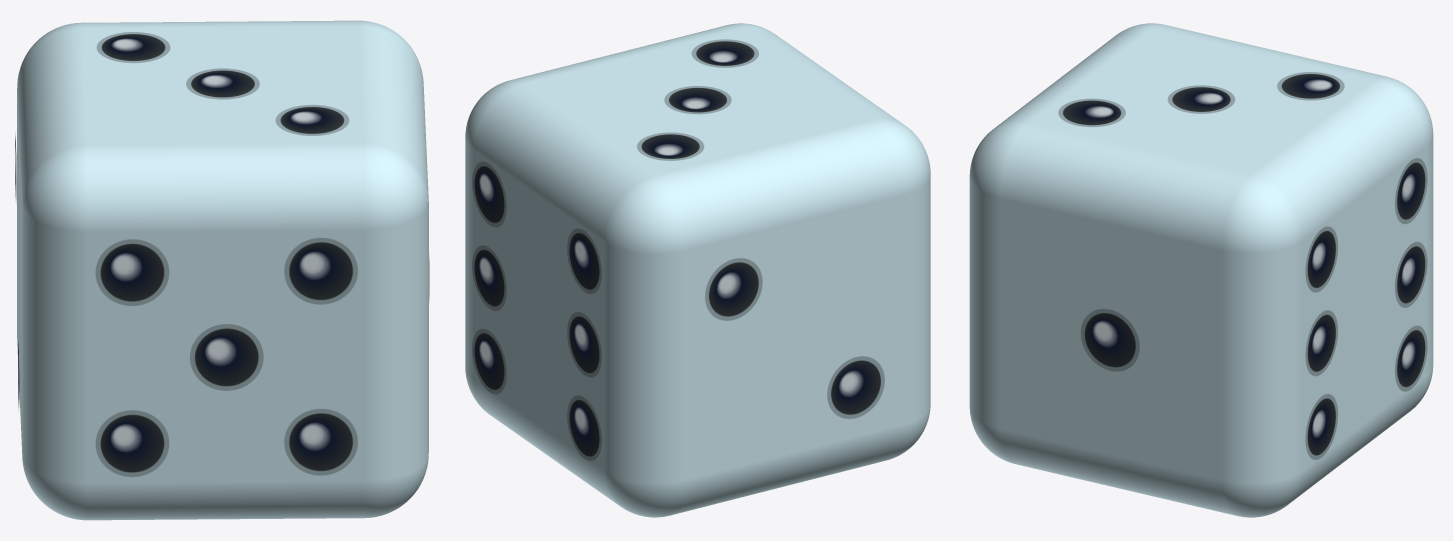
File: dice.glb
The picture shows the model from 3 angles, left to right: view 1: azimuth 30°, elevation 25°; view 2: azimuth 150°, elevation 25°; view 3: azimuth 270°, elevation 25°; orthographic projection. The views are drawn at different scales.
Bounding box in the file's own units: 2.55 × 2.02 × 2.55.
7 materials, 6 textured.
